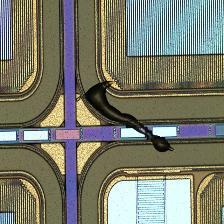COATING BAD: (80, 79, 178, 158)
